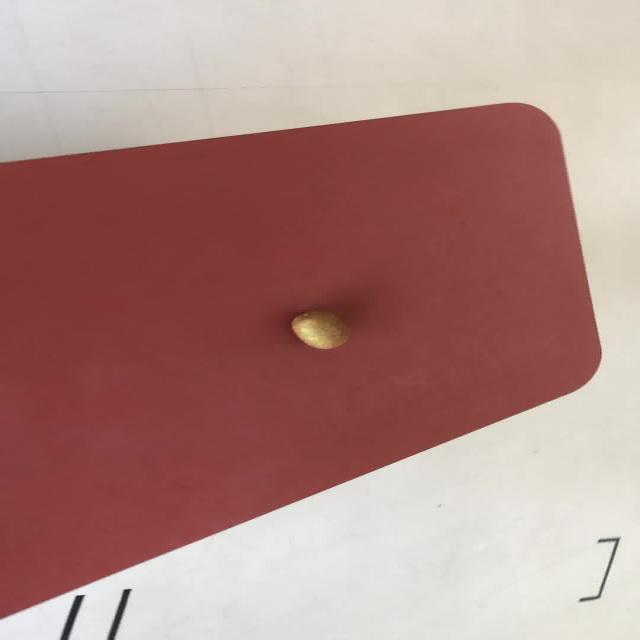kiwi: (289, 310, 349, 349)
